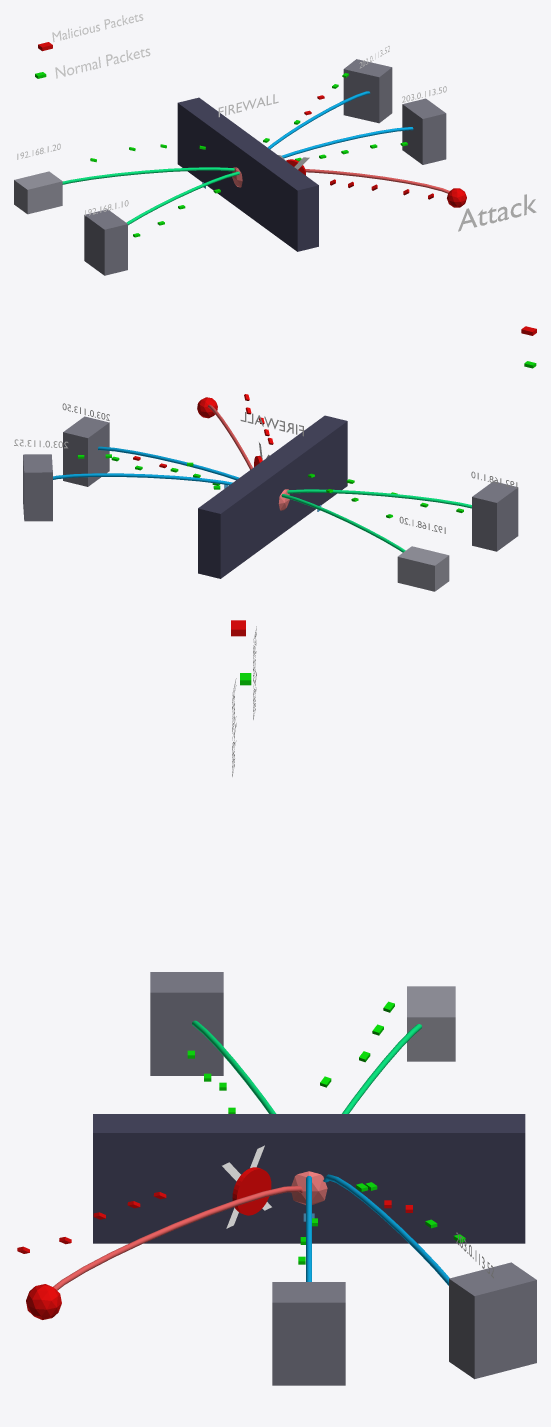
Rendered from firewall.glb.
3 renders of one model, top to bottom at view 1: azimuth 30°, elevation 25°; view 2: azimuth 150°, elevation 25°; view 3: azimuth 270°, elevation 25°, orthographic. The views are drawn at different scales.
Parts seen in each view (by area): view 1: Firewall_Core, External_Server.001, External_Server, Internal_Server, Internal_Workstation, secure_Cable.001, Text.005, blocked_Cable, ethernet_Cable, secure_Cable, Text.008, ethernet_Cable.001 (+2 smaller); view 2: Firewall_Core, Internal_Server, External_Server, External_Server.001, Internal_Workstation, ethernet_Cable.001, secure_Cable, ethernet_Cable, secure_Cable.001; view 3: Firewall_Core, External_Server.001, External_Server, Internal_Server, Internal_Workstation, blocked_Cable, Traffic_Blocker, ethernet_Cable.001, Security_Threat.
Part boxes in pixels (bbox=[...]): Firewall_Core: bbox=[177, 97, 318, 251]; External_Server.001: bbox=[343, 59, 392, 123]; External_Server: bbox=[402, 98, 446, 164]; Internal_Server: bbox=[84, 209, 127, 275]; Internal_Workstation: bbox=[14, 171, 62, 214]; secure_Cable.001: bbox=[62, 167, 234, 184]; Text.005: bbox=[458, 194, 536, 231]; blocked_Cable: bbox=[305, 169, 449, 193]; ethernet_Cable: bbox=[281, 127, 413, 158]; secure_Cable: bbox=[126, 171, 239, 225]; Text.008: bbox=[55, 48, 150, 78]; ethernet_Cable.001: bbox=[268, 91, 370, 149]; Firewall_Core: bbox=[198, 415, 347, 578]; Internal_Server: bbox=[472, 481, 518, 551]; External_Server: bbox=[63, 416, 109, 486]; External_Server.001: bbox=[23, 454, 52, 521]; Internal_Workstation: bbox=[397, 546, 449, 591]; ethernet_Cable.001: bbox=[53, 473, 232, 485]; secure_Cable: bbox=[287, 489, 471, 508]; ethernet_Cable: bbox=[98, 446, 239, 480]; secure_Cable.001: bbox=[281, 494, 405, 552]; Firewall_Core: bbox=[93, 1114, 525, 1243]; External_Server.001: bbox=[449, 1262, 536, 1379]; External_Server: bbox=[272, 1282, 345, 1385]; Internal_Server: bbox=[150, 972, 223, 1075]; Internal_Workstation: bbox=[407, 986, 455, 1061]; blocked_Cable: bbox=[53, 1186, 302, 1290]; Traffic_Blocker: bbox=[232, 1167, 271, 1215]; ethernet_Cable.001: bbox=[323, 1174, 449, 1285]; Security_Threat: bbox=[26, 1284, 61, 1319].
Size of the model in its own units: 14.88 by 7.65 by 8.56.
